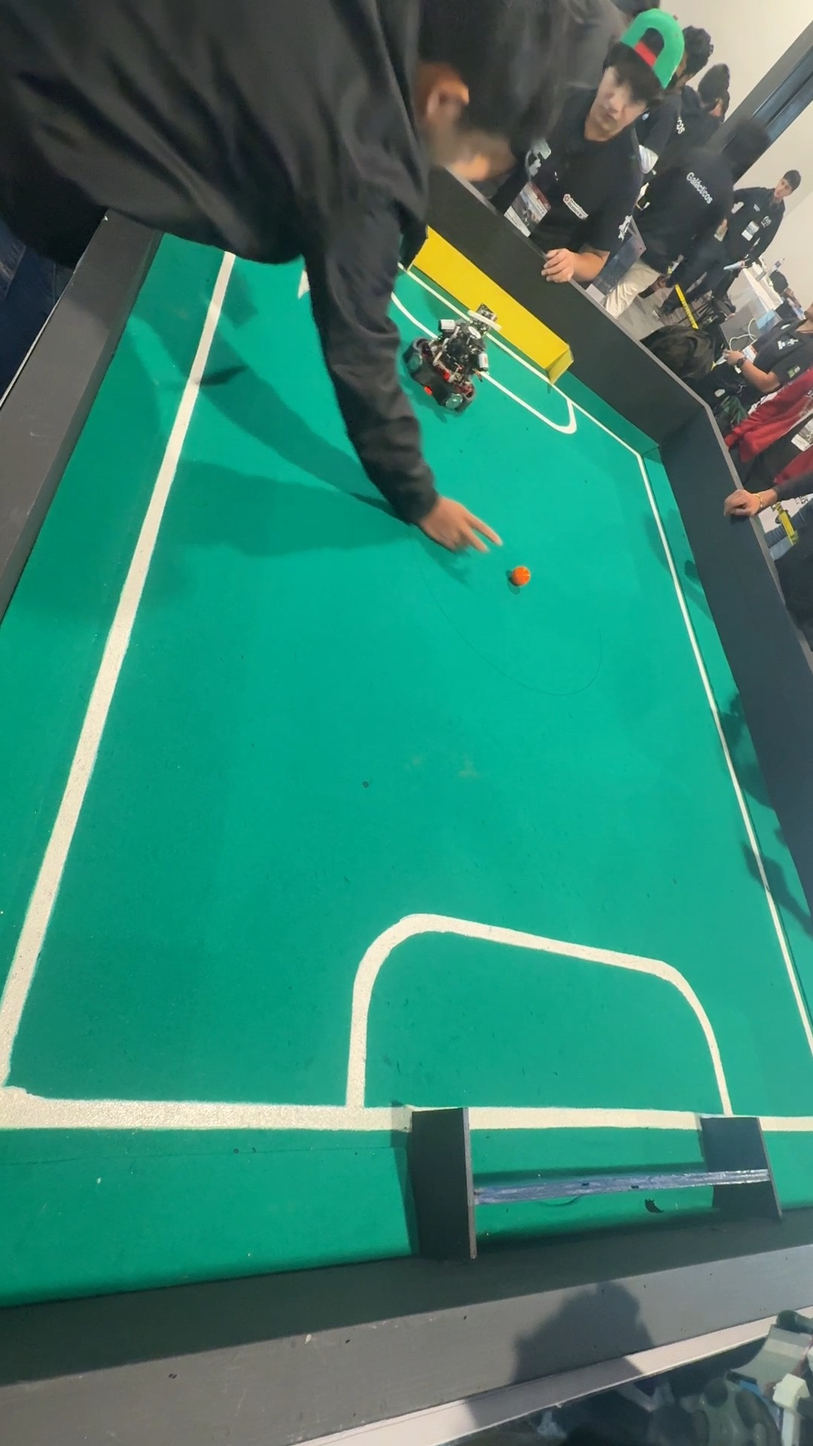Robot: (402, 293, 496, 422)
pelota: (511, 561, 528, 591)
